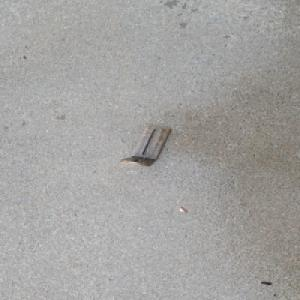MetalPart: (118, 124, 171, 166)
